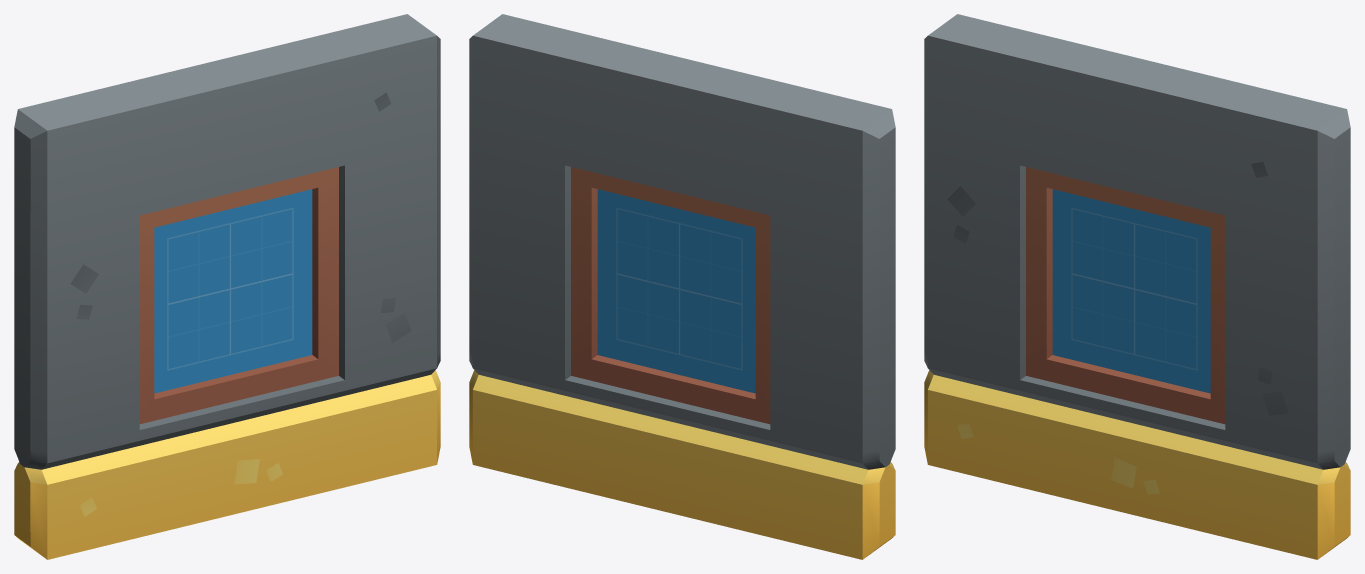
Rendered from Wall_Window_Closed.glb.
3 renders of one model, left to right at view 1: azimuth 30°, elevation 25°; view 2: azimuth 150°, elevation 25°; view 3: azimuth 330°, elevation 25°, orthographic.
Parts seen in each view (by area): view 1: Wall_Window_Closed; view 2: Wall_Window_Closed; view 3: Wall_Window_Closed.
Boxes of the visible parts, x1,y1,x2,y2 form: Wall_Window_Closed: (14, 14, 440, 559); Wall_Window_Closed: (469, 14, 895, 559); Wall_Window_Closed: (924, 14, 1350, 559).
Size of the model in its own units: 4 by 4 by 0.53.
Materials: 1 (1 with a texture image).
